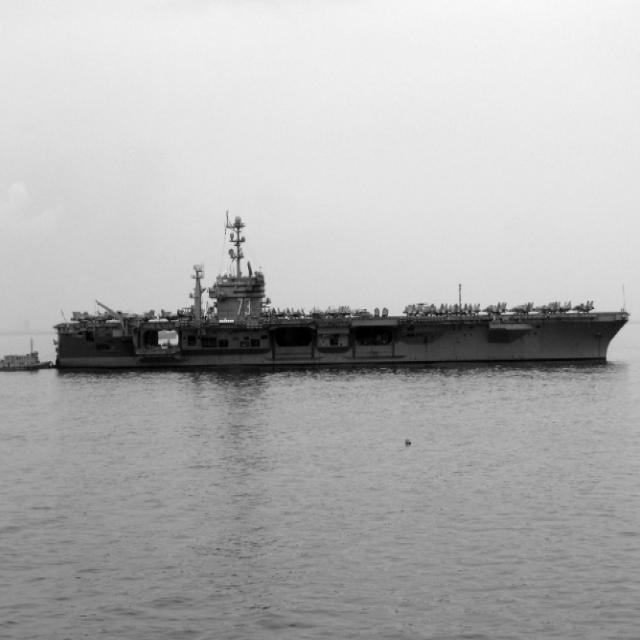Portanaves: (50, 203, 632, 376)
